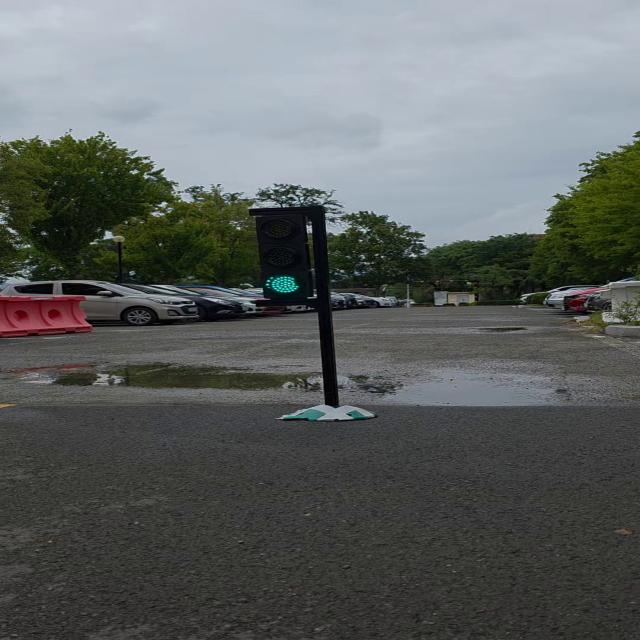green: (260, 208, 334, 304)
